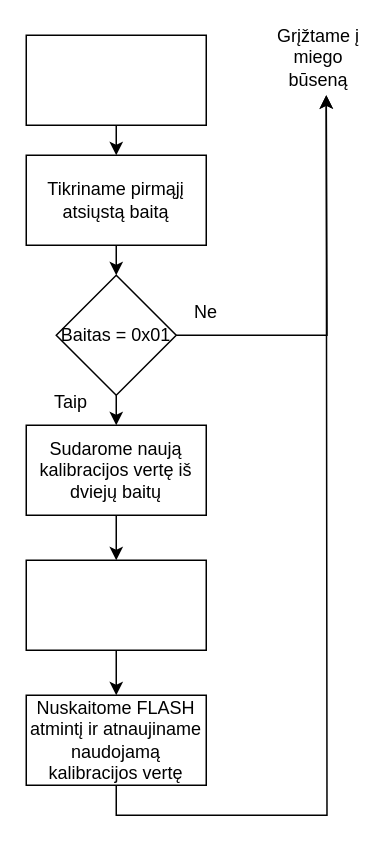
Some shapes in this 390 by 854 pixel diagram are drawn without their labels. The centre of each missing label's shape, as x and y in pixels:
"UART nuskaitymas" belongs at point 115,79.
"Įrašome naują vertę į FLASH atmintį" belongs at point 115,604.
